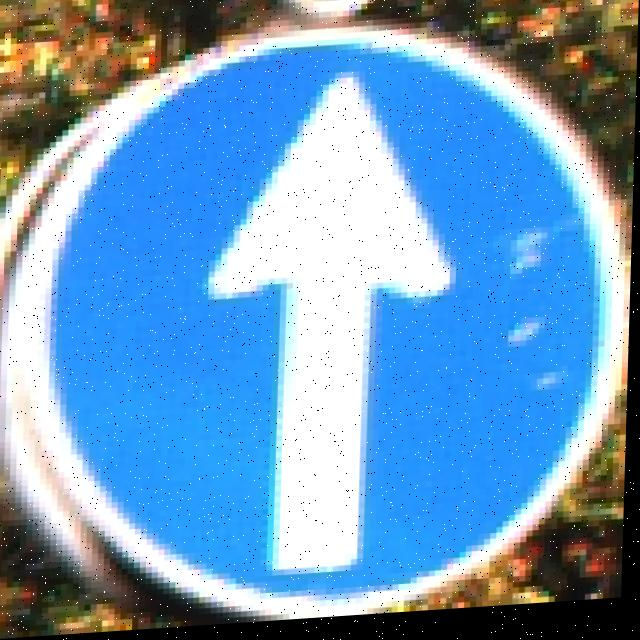compulsory_ahead: (0, 2, 639, 629)
